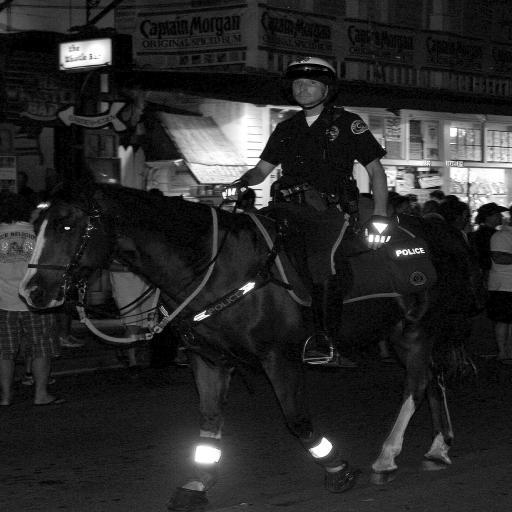horse: (17, 169, 478, 511)
